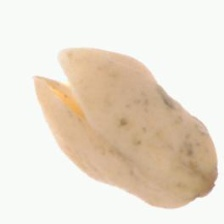L1: (31, 47, 85, 117), (196, 163, 218, 201)
L2: (33, 47, 219, 209)
